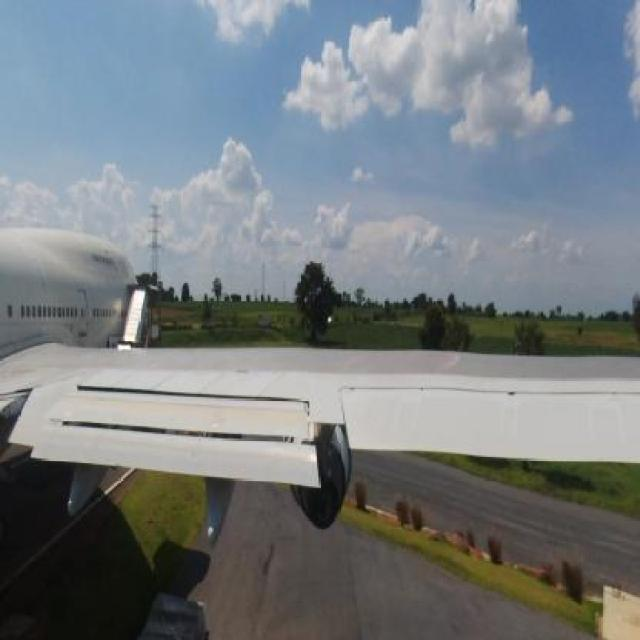Rust: (440, 344, 465, 373)
